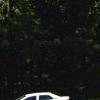Car: (15, 87, 73, 99)
